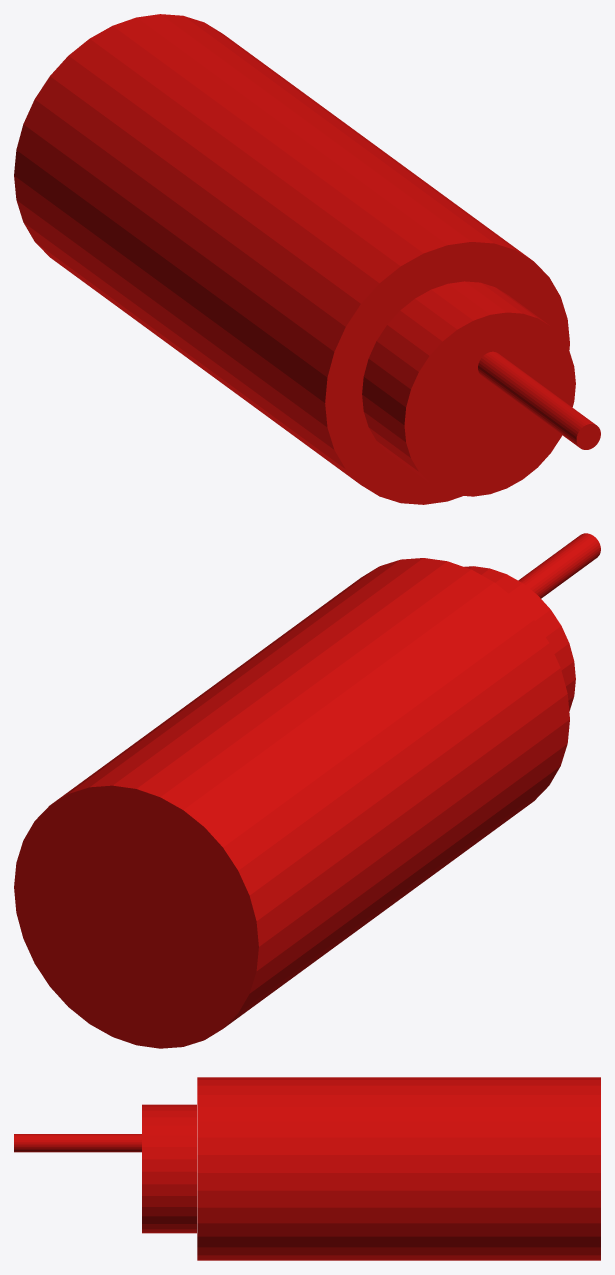
The model's file is kachup.obj.
3 renders of one model, top to bottom at view 1: azimuth 30°, elevation 25°; view 2: azimuth 150°, elevation 25°; view 3: azimuth 270°, elevation 25°, orthographic. The views are drawn at different scales.
Parts seen in each view (by area): view 1: kachup_body, kachup_cap, kachup_nozzle; view 2: kachup_body, kachup_cap, kachup_nozzle; view 3: kachup_body, kachup_cap, kachup_nozzle.
Part boxes in pixels (x1,y1,x2,y2): kachup_body: (14,14,569,504); kachup_cap: (362,281,575,496); kachup_nozzle: (478,351,600,449); kachup_body: (14,558,569,1048); kachup_cap: (464,566,575,711); kachup_nozzle: (518,533,600,598); kachup_body: (197,1077,600,1260); kachup_cap: (142,1104,196,1233); kachup_nozzle: (14,1134,141,1152).
Size of the model in its own units: 0.05 by 0.05 by 0.1599.
